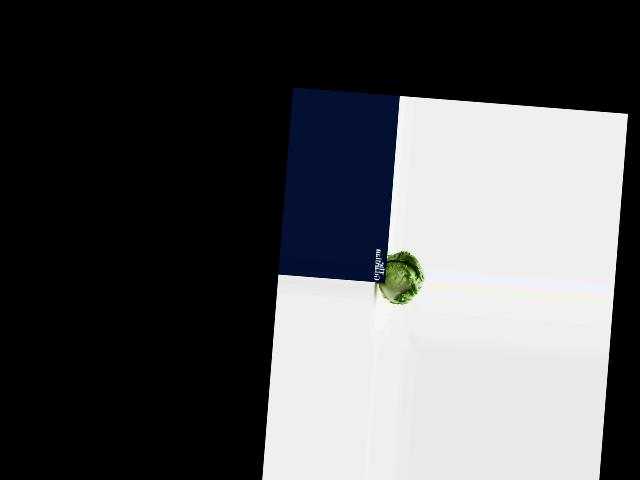lettuce: (377, 250, 428, 305)
